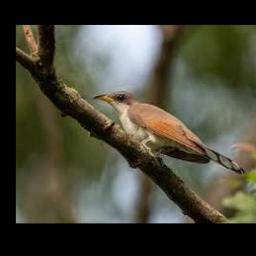Cuckoo: (92, 91, 244, 175)
